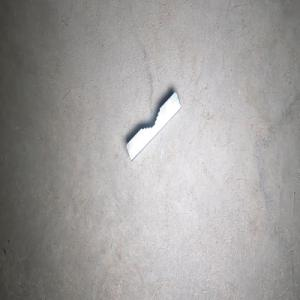ClampPart: (125, 90, 181, 161)
